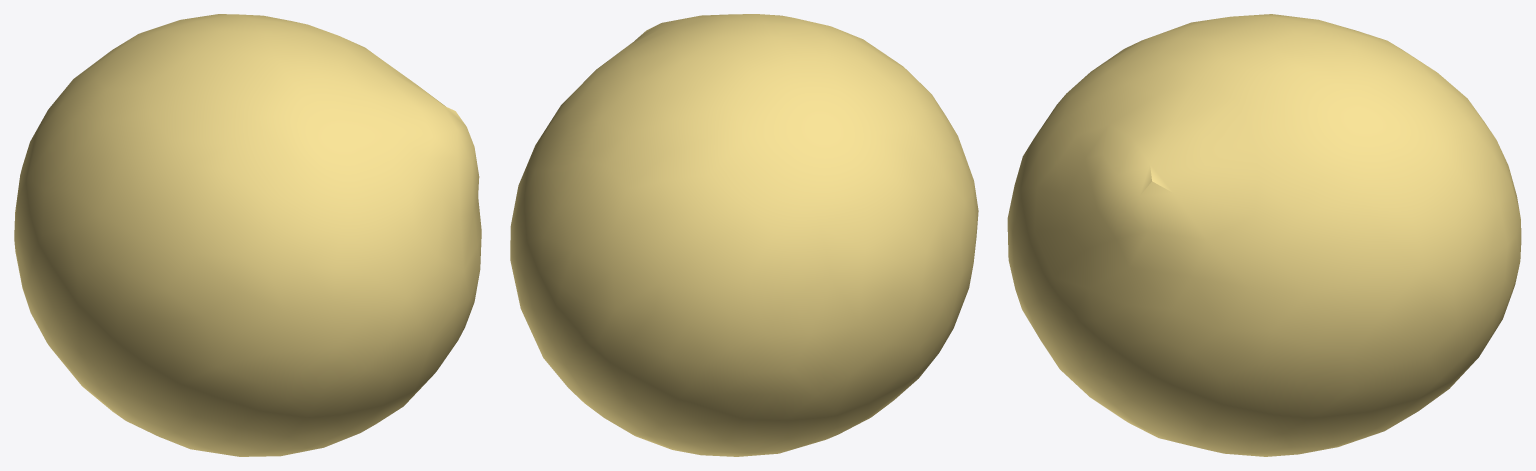
The model's file is fma73491_fj7487m.glb.
3 views of the same model, side by side, from view 1: azimuth 30°, elevation 25°; view 2: azimuth 150°, elevation 25°; view 3: azimuth 270°, elevation 25° (orthographic).
Visible parts, largest first — view 1: FMA73491_FJ7487M; view 2: FMA73491_FJ7487M; view 3: FMA73491_FJ7487M.
Part boxes in pixels (bbox=[...]): FMA73491_FJ7487M: bbox=[14, 14, 481, 456]; FMA73491_FJ7487M: bbox=[510, 14, 978, 456]; FMA73491_FJ7487M: bbox=[1007, 14, 1521, 456].
Bounding box in the file's own units: 0.00566 × 0.00536 × 0.00629.
